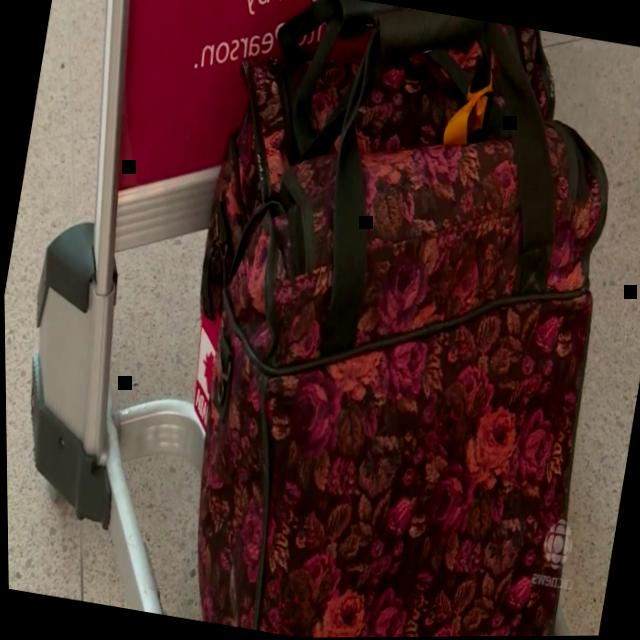luggage: (135, 0, 640, 639)
